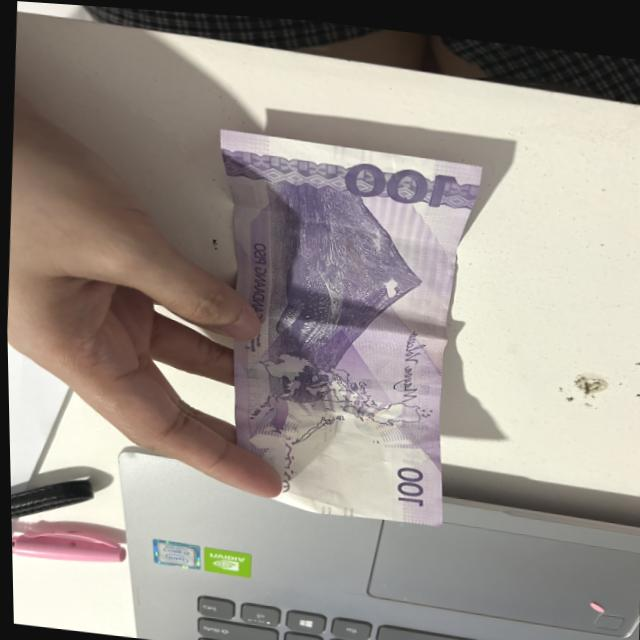100_whale: (272, 246, 336, 359)
100_whale_watermark: (250, 390, 295, 439)
value_watermark: (294, 476, 339, 500)
